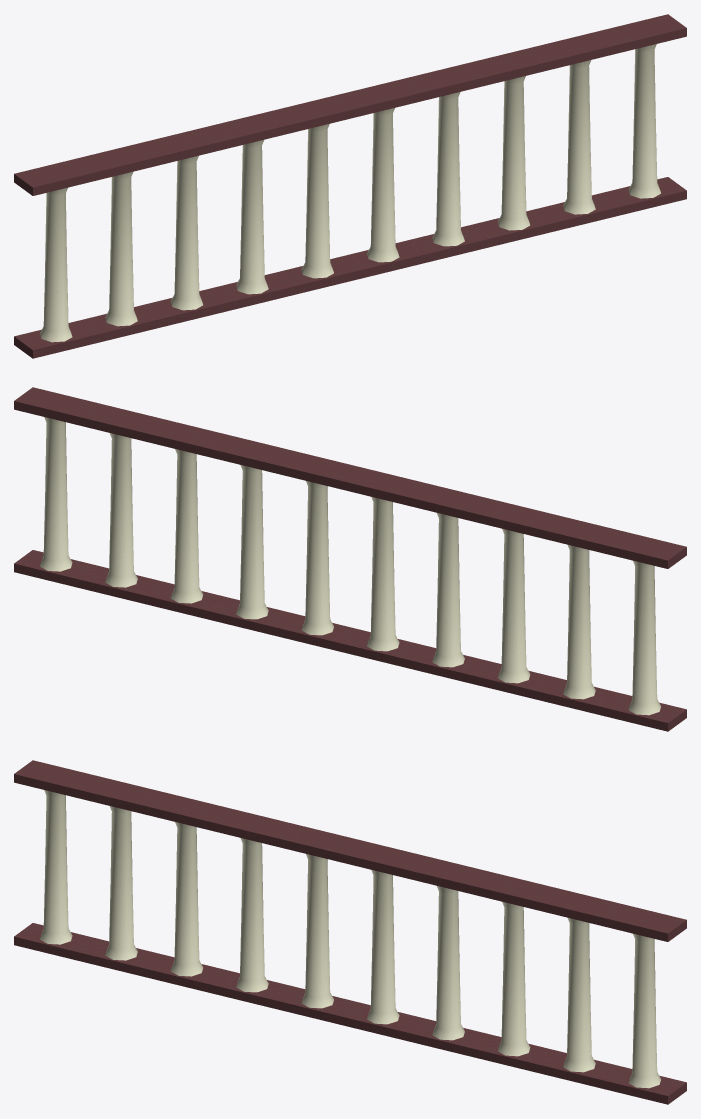
Rendered from PR_RaiStraight.fbx.
The picture shows the model from 3 angles, top to bottom: view 1: azimuth 30°, elevation 25°; view 2: azimuth 150°, elevation 25°; view 3: azimuth 330°, elevation 25°; orthographic projection.
Visible parts, largest first — view 1: polySurface28; view 2: polySurface28; view 3: polySurface28.
Boxes of the visible parts, x1,y1,x2,y2 form: polySurface28: (14,14,686,358); polySurface28: (14,387,686,731); polySurface28: (14,760,686,1104).
Size of the model in its own units: 400 by 100 by 20.
